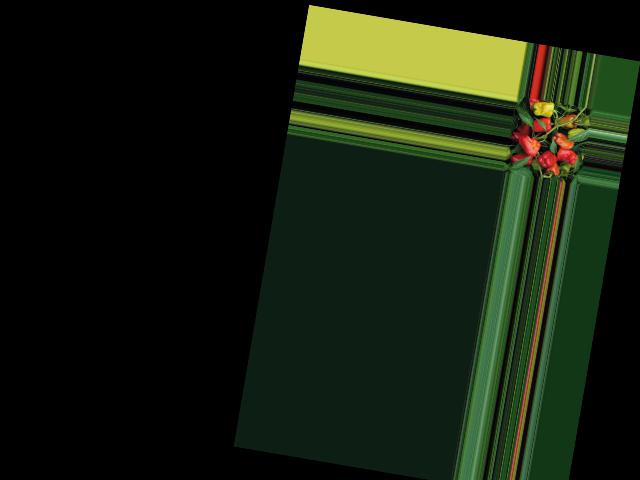bell_pepper: (548, 163, 560, 177)
